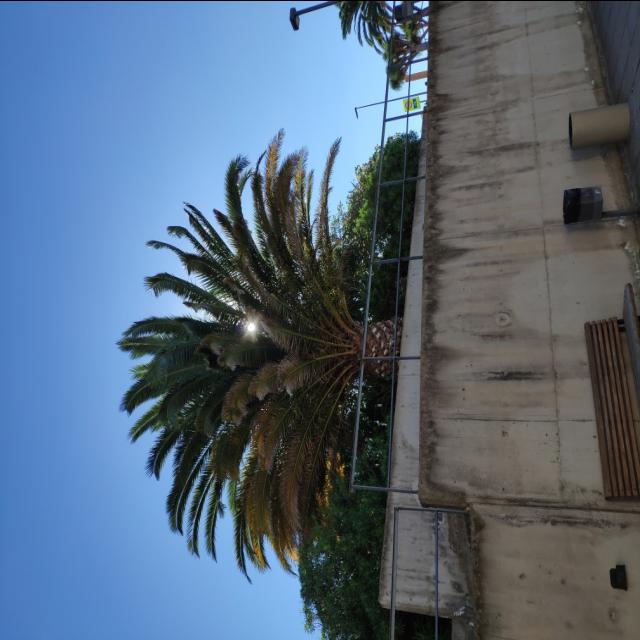Palm-Trees: (133, 133, 399, 553)
